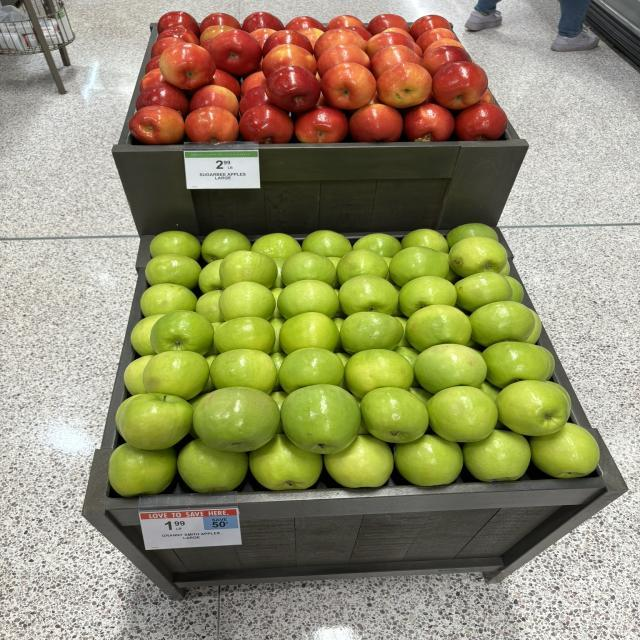Apple -Green-: (192, 386, 280, 452), (280, 384, 362, 454), (118, 392, 193, 450), (250, 434, 323, 490), (495, 380, 568, 436), (530, 422, 600, 479), (427, 386, 498, 442), (360, 388, 428, 444), (177, 439, 248, 492), (108, 444, 177, 498), (323, 435, 393, 488), (413, 344, 487, 394), (395, 434, 463, 486), (462, 430, 530, 481), (482, 341, 555, 388), (345, 349, 413, 398), (143, 351, 210, 400), (405, 305, 472, 351), (210, 349, 277, 394), (470, 301, 535, 346), (278, 348, 343, 392), (150, 311, 215, 355), (340, 311, 403, 354), (280, 312, 340, 354), (388, 246, 450, 286), (448, 236, 507, 278), (338, 275, 398, 316), (277, 279, 338, 319), (398, 276, 457, 316), (213, 316, 275, 354), (218, 281, 275, 321), (455, 272, 512, 311), (220, 250, 277, 289), (145, 254, 202, 289), (282, 251, 337, 285), (140, 284, 197, 316), (337, 249, 388, 284), (202, 229, 252, 262), (150, 231, 202, 260), (130, 314, 163, 356), (302, 230, 352, 257), (252, 232, 302, 259), (447, 222, 498, 248), (352, 232, 402, 258), (123, 355, 153, 395), (402, 229, 448, 252), (195, 290, 225, 322), (198, 259, 223, 294), (270, 318, 287, 352), (525, 310, 542, 344), (393, 346, 420, 366), (503, 276, 523, 302), (478, 381, 502, 400), (408, 388, 433, 404), (188, 392, 210, 409), (270, 352, 287, 372), (270, 391, 288, 407), (335, 352, 352, 366), (202, 378, 215, 392), (500, 261, 510, 276), (205, 355, 217, 366), (188, 426, 198, 439), (273, 376, 280, 391)
Apple -Red-: (158, 42, 217, 89), (432, 61, 488, 110), (322, 62, 377, 110), (377, 62, 432, 109), (265, 65, 320, 112), (208, 29, 262, 75), (128, 105, 185, 145), (238, 105, 293, 144), (348, 104, 403, 142), (455, 102, 508, 141), (403, 104, 455, 141), (185, 106, 238, 142), (295, 106, 348, 142), (370, 45, 422, 79), (262, 44, 317, 76), (135, 84, 188, 116), (317, 45, 370, 76), (313, 29, 367, 58), (188, 85, 238, 116), (422, 45, 472, 76), (365, 32, 412, 58), (408, 15, 452, 40), (238, 85, 273, 114), (158, 11, 200, 34), (208, 69, 240, 98), (417, 28, 457, 51), (242, 11, 283, 32), (367, 14, 408, 34), (157, 26, 200, 45), (200, 12, 240, 31), (138, 69, 168, 91), (240, 71, 267, 95), (152, 38, 185, 57), (423, 39, 463, 54), (285, 16, 325, 31), (200, 25, 233, 42), (327, 15, 363, 29), (250, 29, 275, 48), (298, 28, 323, 47), (345, 26, 372, 41), (382, 28, 413, 41), (145, 55, 160, 72), (478, 90, 495, 104)
